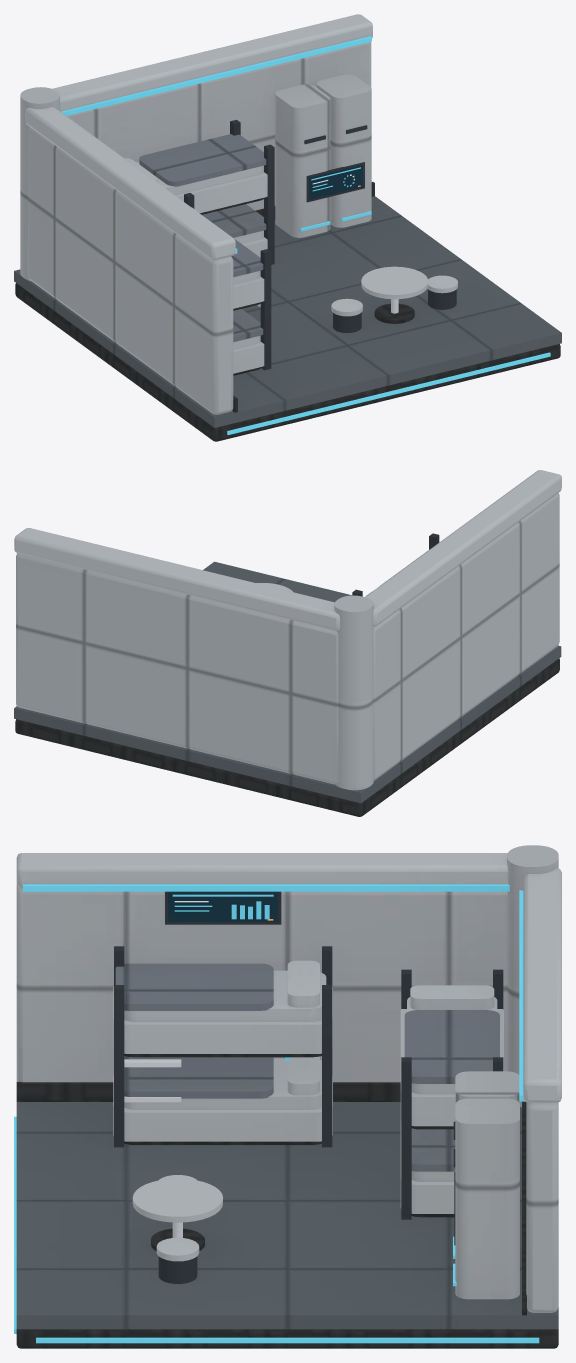
The model's file is enterprise_habitat_t1.glb.
The picture shows the model from 3 angles, top to bottom: view 1: azimuth 30°, elevation 25°; view 2: azimuth 150°, elevation 25°; view 3: azimuth 270°, elevation 25°; orthographic projection. The views are drawn at different scales.
Visible parts, largest first — view 1: te_enterprise_habitat_t1; view 2: te_enterprise_habitat_t1; view 3: te_enterprise_habitat_t1.
Part boxes in pixels (left/top/right/bottom): te_enterprise_habitat_t1: left=14, top=14, right=561, bottom=441; te_enterprise_habitat_t1: left=14, top=470, right=561, bottom=816; te_enterprise_habitat_t1: left=14, top=845, right=561, bottom=1348.
Bounding box in the file's own units: 0.849 × 0.472 × 0.849.
Materials: 1 (1 with a texture image).
